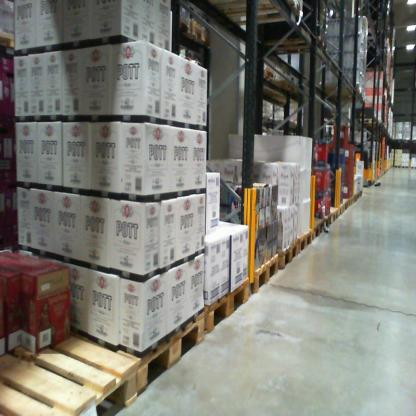pallet: (54, 304, 207, 402), (1, 309, 140, 412), (211, 2, 308, 31), (205, 277, 252, 336), (242, 32, 328, 58), (246, 79, 308, 100), (253, 251, 280, 298), (192, 21, 218, 56), (276, 240, 300, 273), (3, 31, 29, 56), (246, 68, 278, 85), (176, 12, 192, 46), (306, 215, 323, 243), (297, 228, 312, 255), (352, 116, 381, 127), (317, 212, 332, 232), (325, 202, 339, 221), (337, 202, 345, 217), (341, 198, 350, 211)
pallet_truck: (346, 137, 374, 184)
